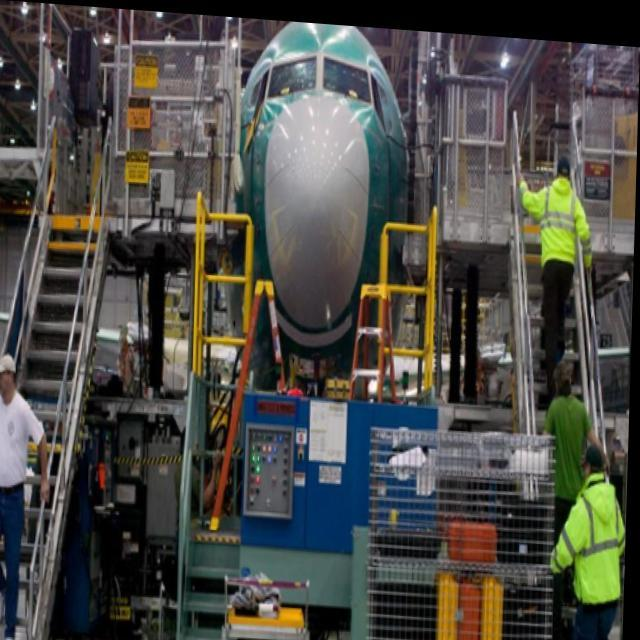vest: (541, 464, 627, 616), (518, 171, 595, 280)
